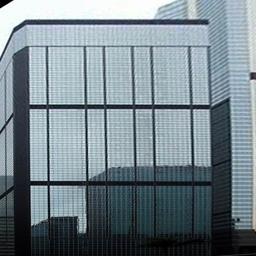building: (17, 0, 215, 256)
